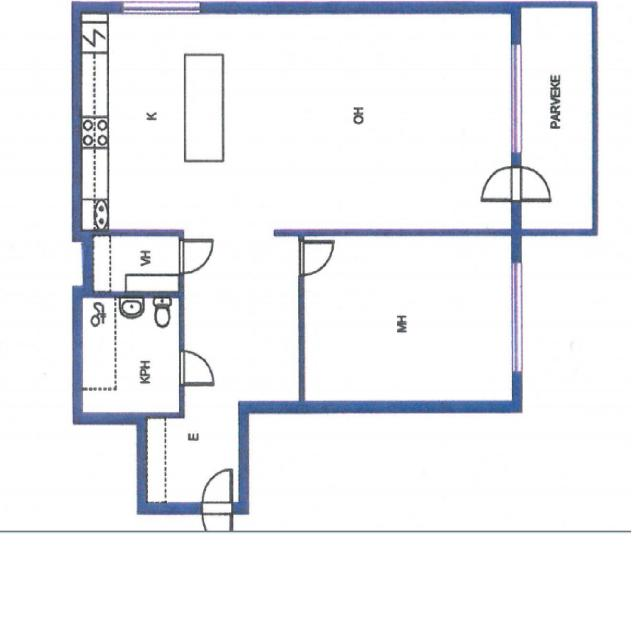door: (202, 502, 233, 550), (202, 466, 233, 514), (511, 167, 551, 200), (481, 167, 521, 200), (179, 350, 215, 384), (179, 239, 214, 273), (300, 240, 334, 274)
